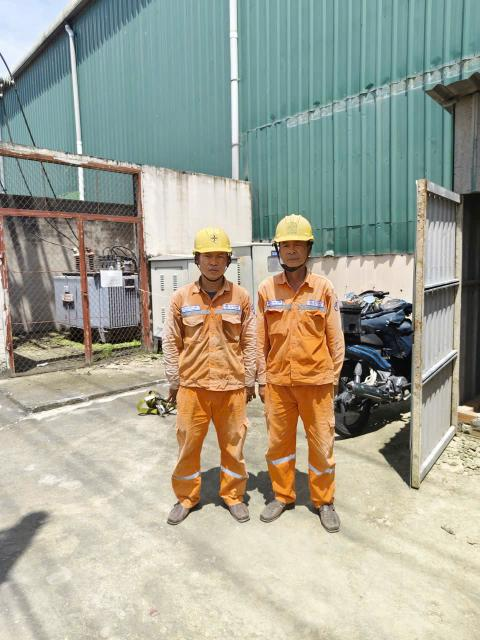helmet: (267, 208, 317, 248), (188, 225, 240, 261)
shoes: (248, 487, 297, 529), (308, 500, 349, 536), (162, 487, 206, 517), (229, 488, 259, 529)
